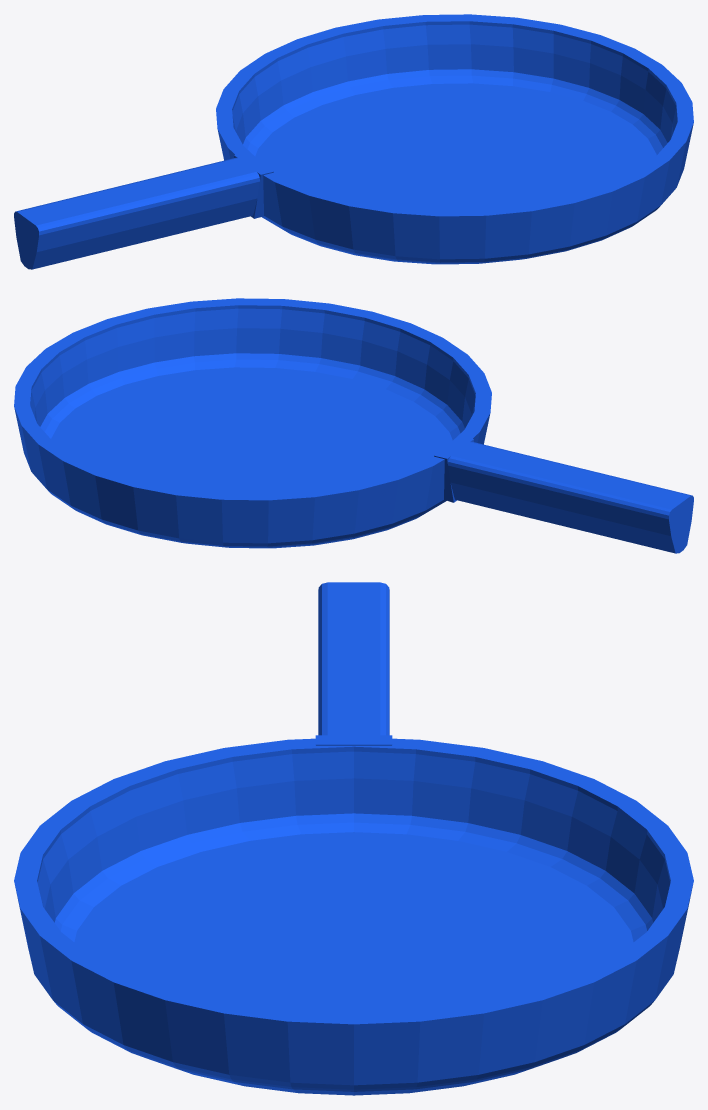
Rendered from pan.fbx.
The picture shows the model from 3 angles, top to bottom: view 1: azimuth 30°, elevation 25°; view 2: azimuth 150°, elevation 25°; view 3: azimuth 270°, elevation 25°; orthographic projection. The views are drawn at different scales.
Visible parts, largest first — view 1: Cube; view 2: Cube; view 3: Cube.
Boxes of the visible parts, x1,y1,x2,y2 form: Cube: (14, 14, 693, 269); Cube: (14, 298, 693, 553); Cube: (14, 582, 693, 1095).
Bounding box in the file's own units: 40.1 × 3.71 × 26.16.
